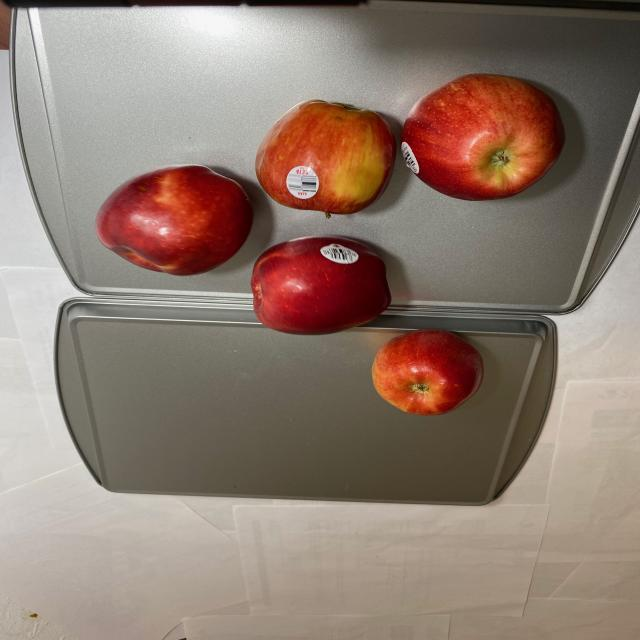Apple: (95, 67, 570, 336), (371, 326, 492, 416)
